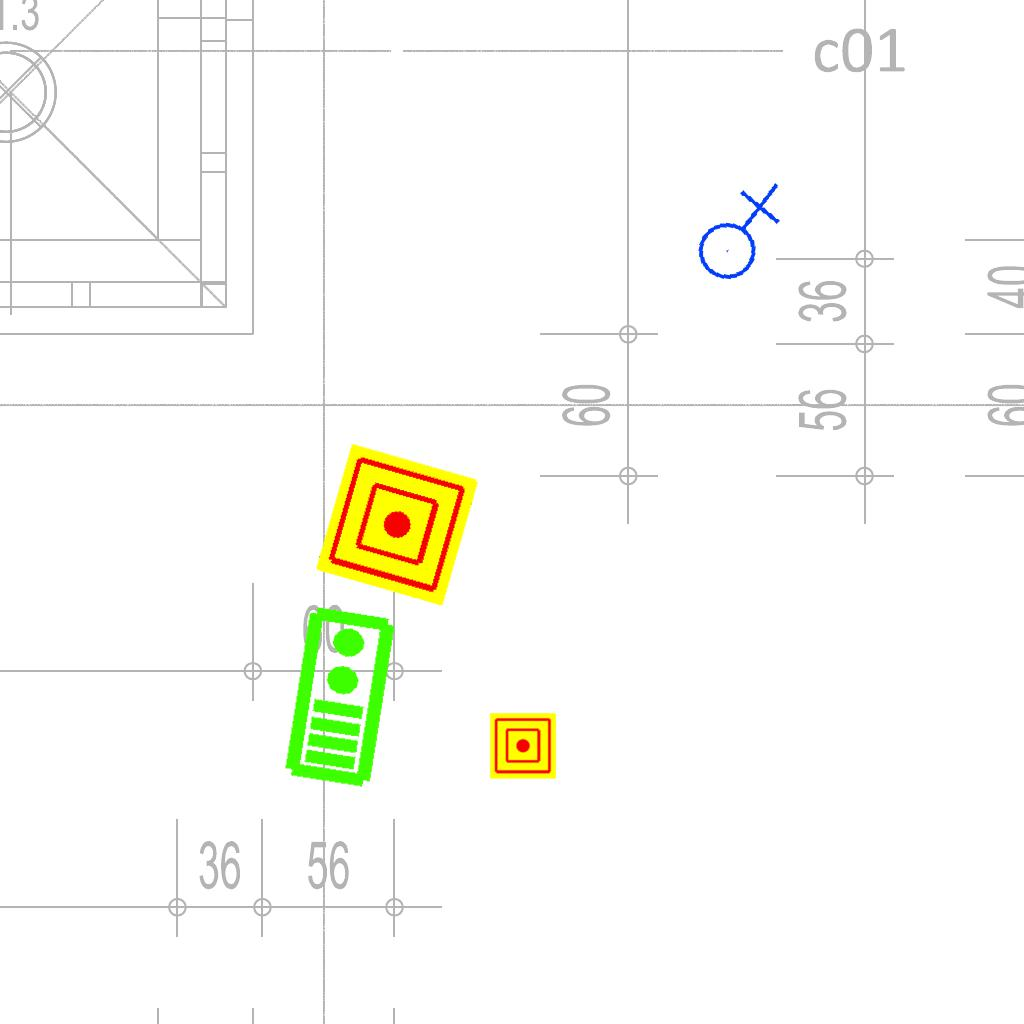Elektroanschluss_allgemein_230V_Geraeteanschlussdose_230V: (680, 177, 793, 287)
Gegensprechanlage_mit_Video: (277, 601, 400, 791)
NAM-Nichtautomatischer_Melder: (315, 443, 479, 607), (490, 713, 556, 779)
